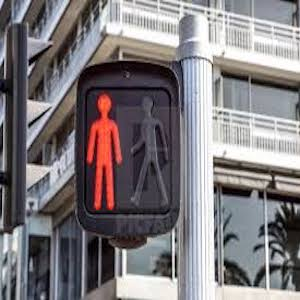red: (86, 90, 127, 208)
